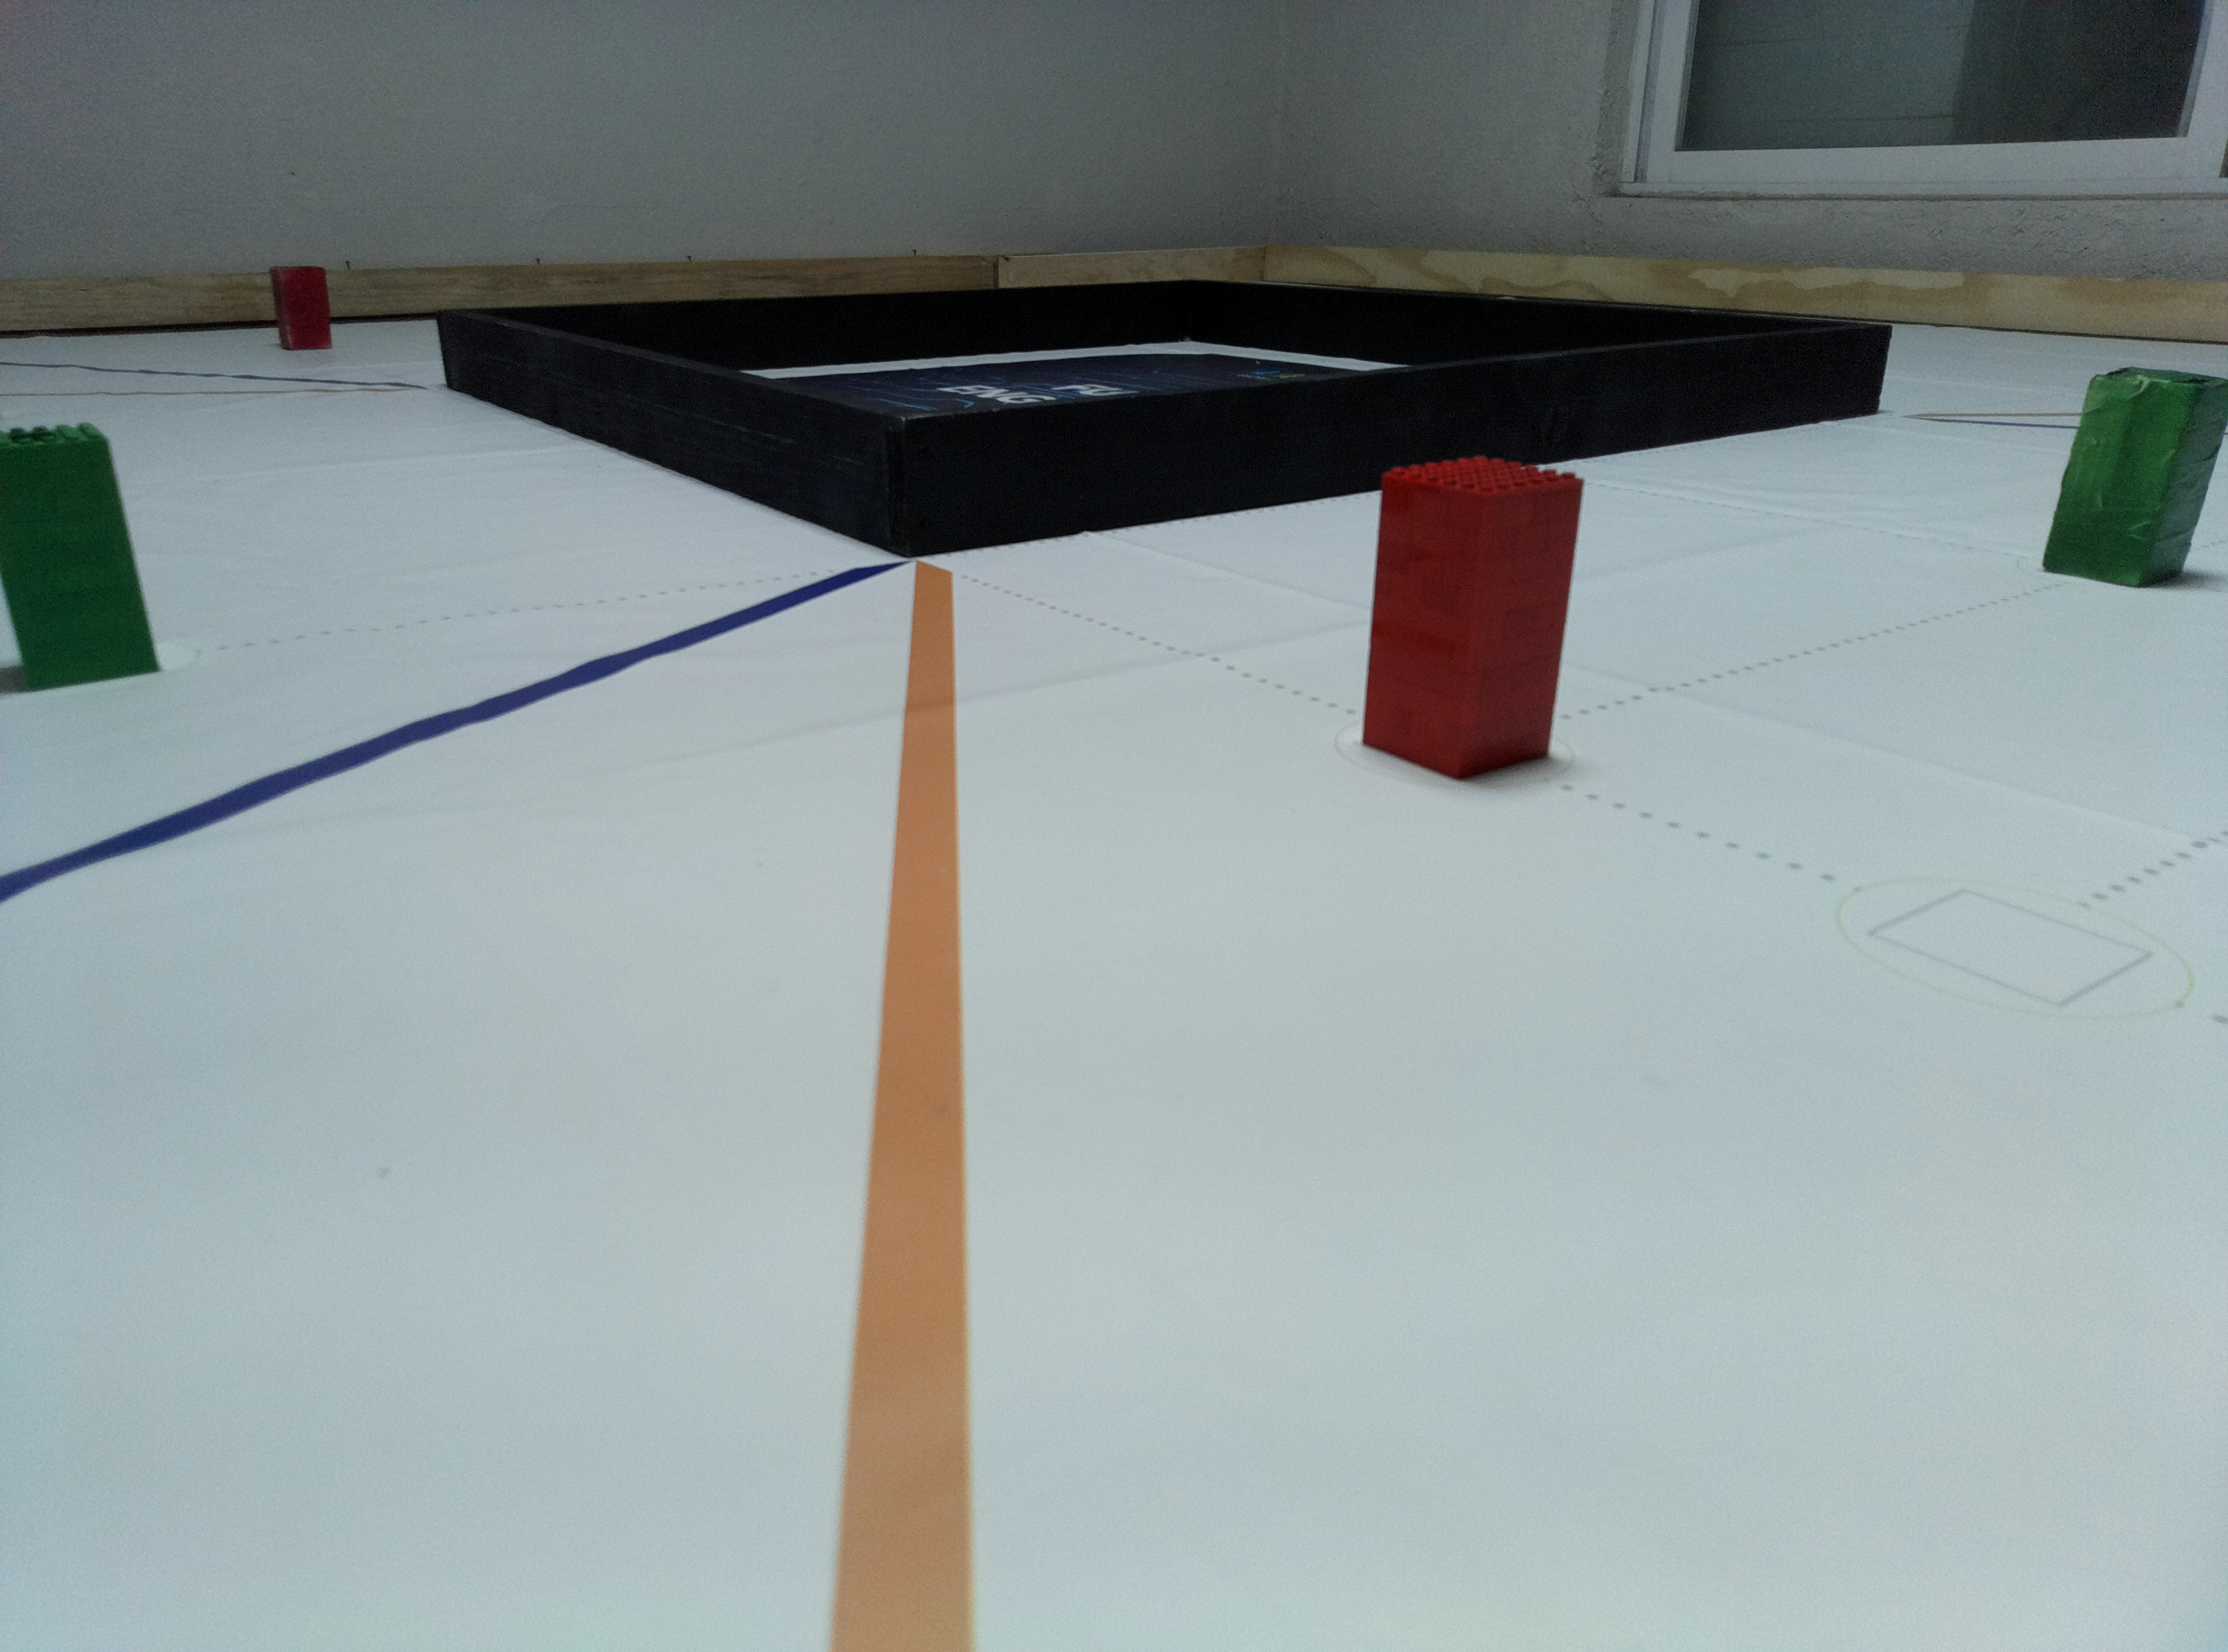greenbox: (0, 416, 165, 692), (2037, 364, 2226, 590)
redbox: (1357, 448, 1588, 786), (269, 260, 335, 351)
